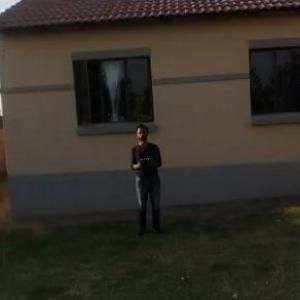follow: (128, 119, 168, 245)
